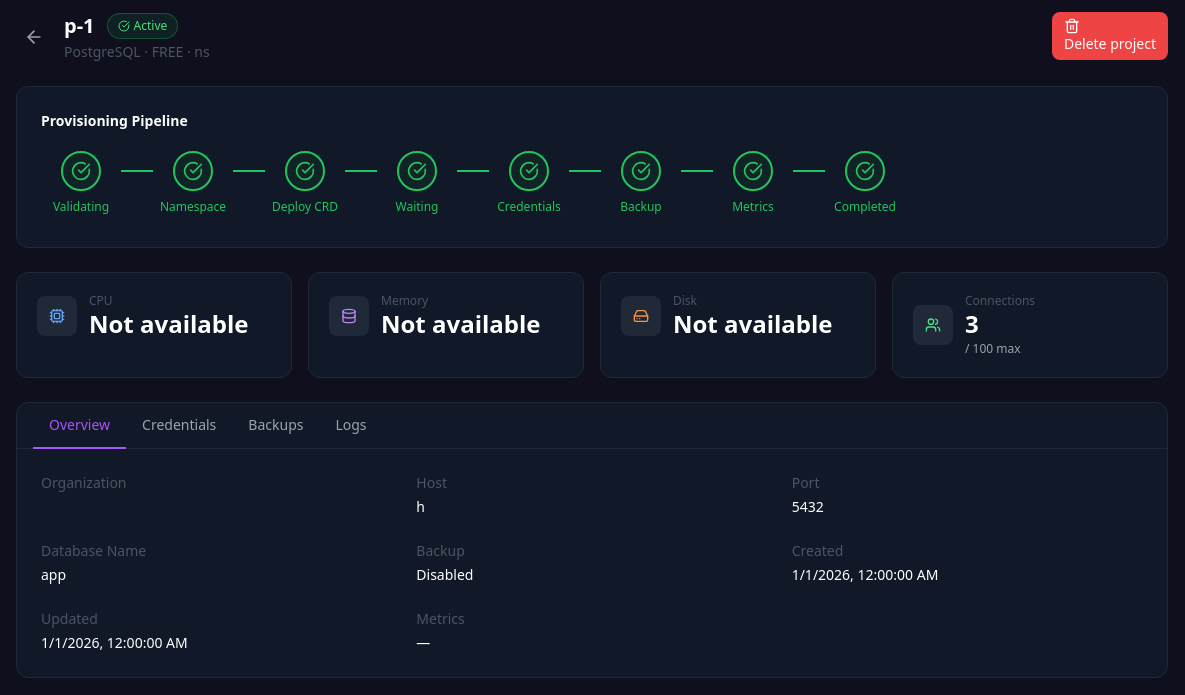
it: Studio monitoring says what it cannot measure › the overview's log tab shows why the logs could not be read
The image size is (1185, 695).
What coordinates should you click on to do the following:
click the button "logs"
I would click on:
 (351, 426)
Its box is [320,403,383,449].
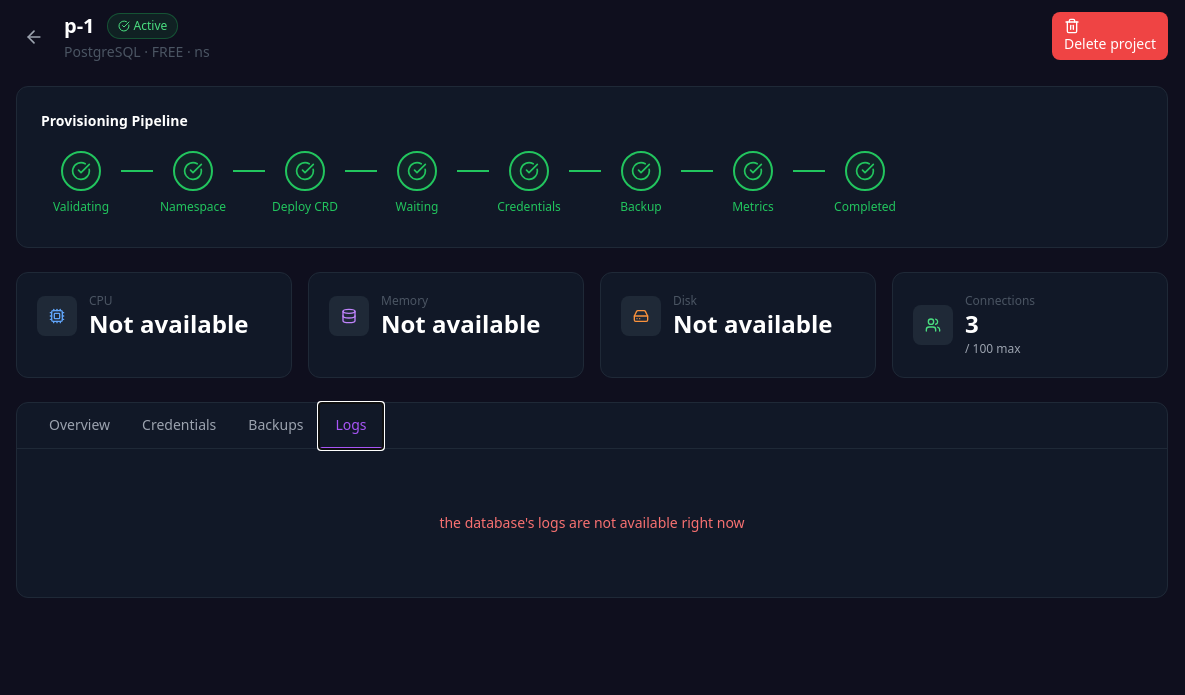
Expected: the message reads "the database's logs are not available right now", [439,513,745,532]
